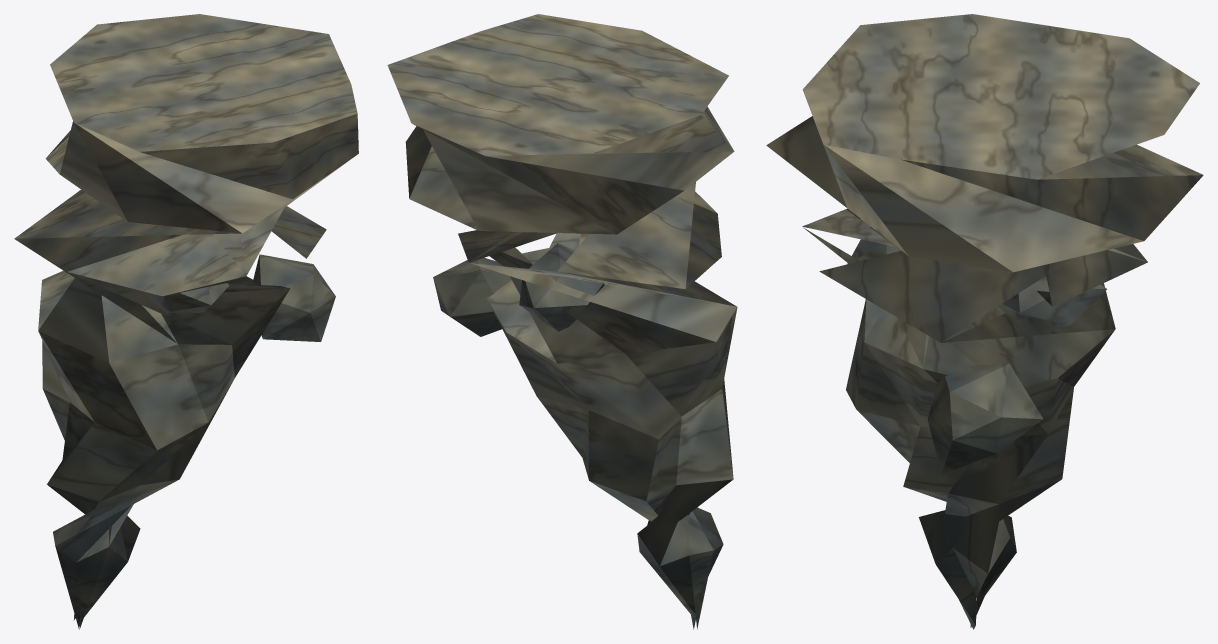
Rendered from hanging_crag_cloud_b.glb.
The picture shows the model from 3 angles, left to right: view 1: azimuth 30°, elevation 25°; view 2: azimuth 150°, elevation 25°; view 3: azimuth 270°, elevation 25°; orthographic projection. The views are drawn at different scales.
Parts seen in each view (by area): view 1: hanging_crag_cloud_b; view 2: hanging_crag_cloud_b; view 3: hanging_crag_cloud_b.
Part boxes in pixels (box(x1,y1,x2,y2)): hanging_crag_cloud_b: box(14, 14, 358, 629); hanging_crag_cloud_b: box(387, 14, 737, 629); hanging_crag_cloud_b: box(766, 14, 1203, 629).
Bounding box in the file's own units: 3.29 × 5.13 × 3.33.
1 material, 1 textured.
